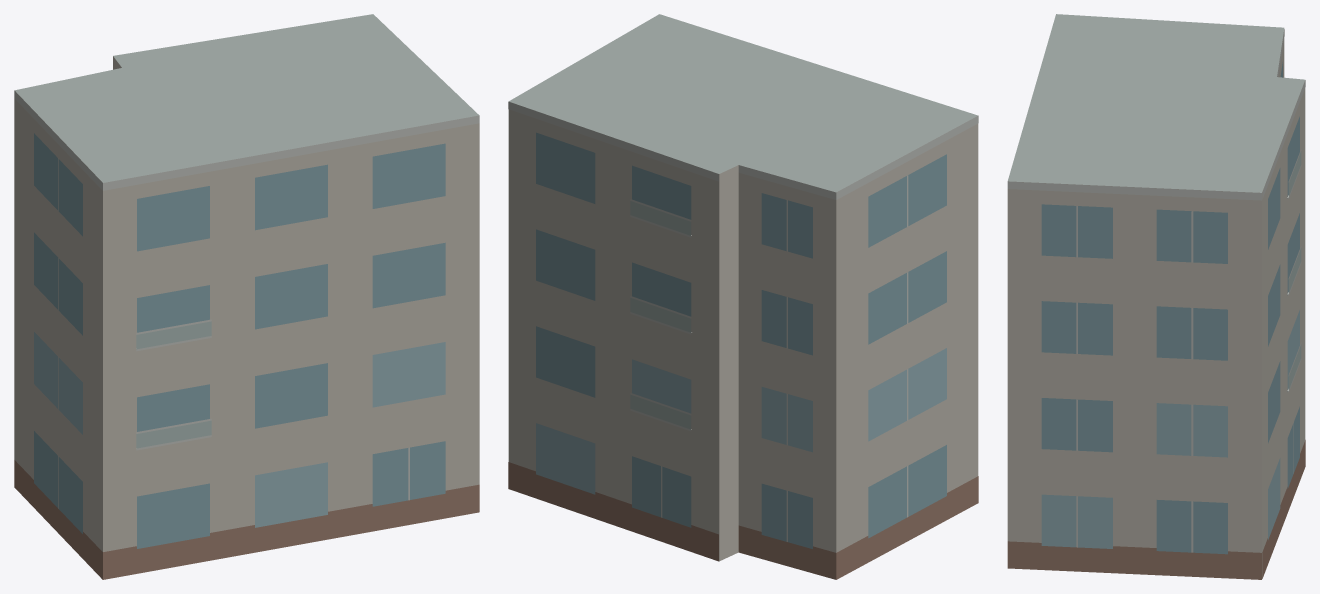
Rendered from survey-upis-32651964.glb.
3 views of the same model, side by side, from view 1: azimuth 30°, elevation 25°; view 2: azimuth 150°, elevation 25°; view 3: azimuth 270°, elevation 25° (orthographic). The views are drawn at different scales.
Parts seen in each view (by area): view 1: survey-upis-32651964.tmp; view 2: survey-upis-32651964.tmp; view 3: survey-upis-32651964.tmp.
Part boxes in pixels (bbox=[...]): survey-upis-32651964.tmp: bbox=[14, 14, 479, 579]; survey-upis-32651964.tmp: bbox=[508, 14, 978, 579]; survey-upis-32651964.tmp: bbox=[1007, 14, 1305, 579].
Size of the model in its own units: 12.2 by 12.3 by 8.59.
